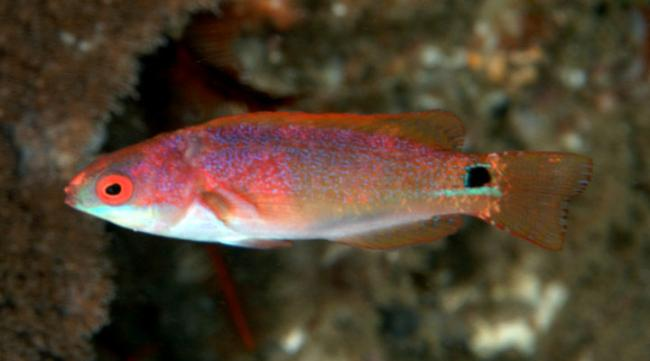fish: (65, 108, 592, 251)
